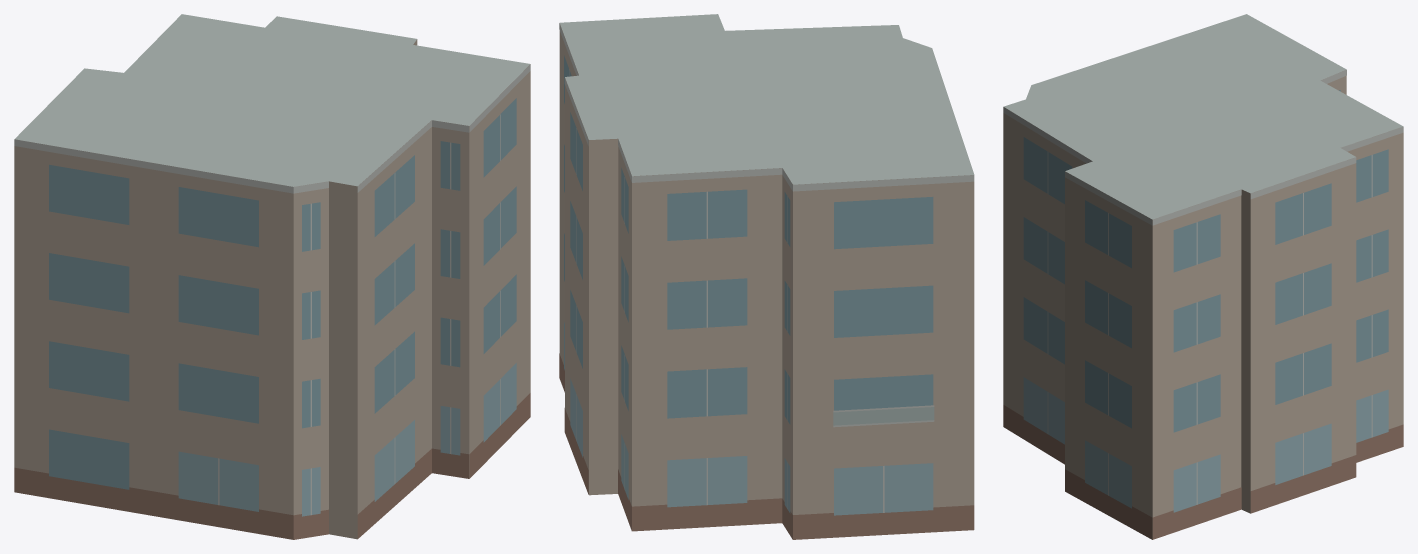
File: survey-upis-33026622.glb
3 renders of one model, left to right at view 1: azimuth 30°, elevation 25°; view 2: azimuth 150°, elevation 25°; view 3: azimuth 270°, elevation 25°, orthographic. The views are drawn at different scales.
Visible parts, largest first — view 1: survey-upis-33026622.tmp; view 2: survey-upis-33026622.tmp; view 3: survey-upis-33026622.tmp.
Part boxes in pixels (x1=…): survey-upis-33026622.tmp: x1=14, y1=14, x2=530, y2=539; survey-upis-33026622.tmp: x1=559, y1=14, x2=974, y2=539; survey-upis-33026622.tmp: x1=1003, y1=14, x2=1403, y2=539.
Bounding box in the file's own units: 17.63 × 12.8 × 14.5.
